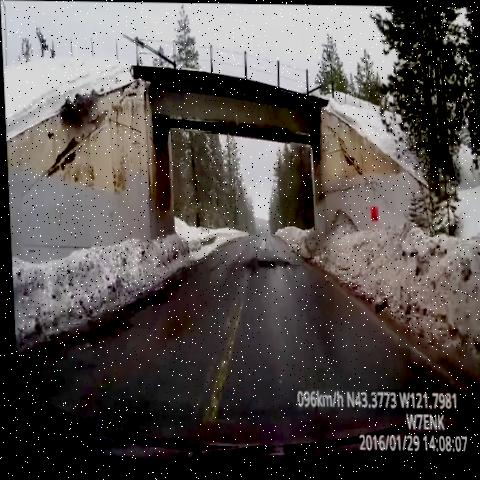pothole: (229, 242, 298, 285)
